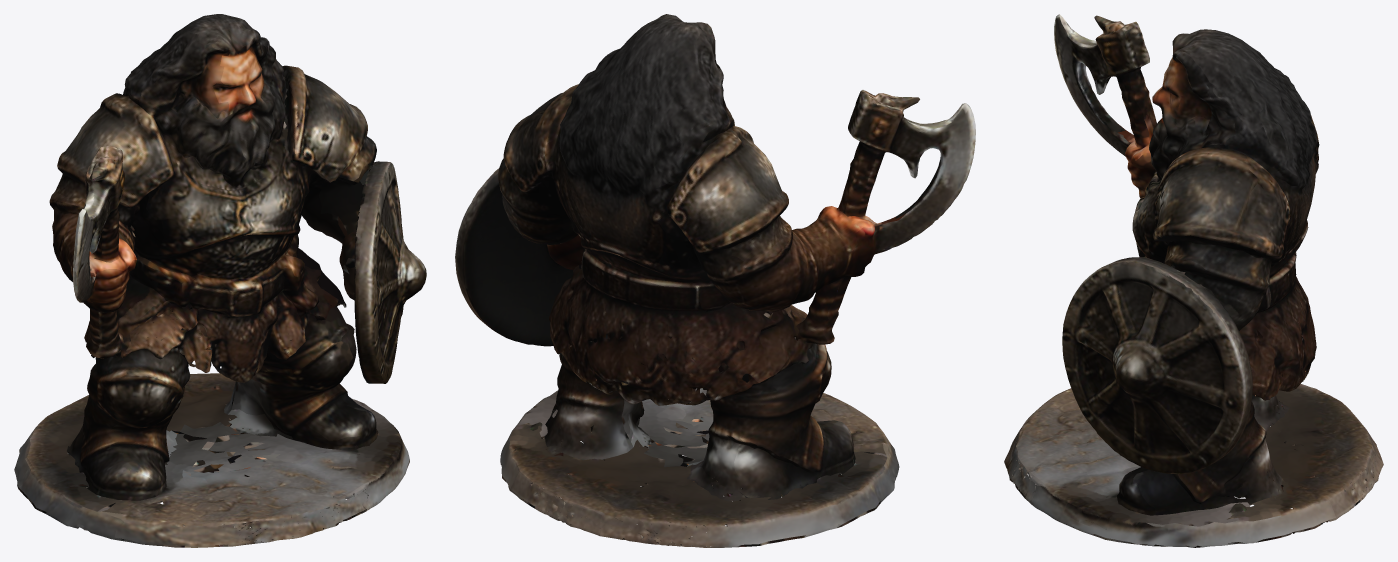
File: warrior.glb
3 views of the same model, side by side, from view 1: azimuth 30°, elevation 25°; view 2: azimuth 150°, elevation 25°; view 3: azimuth 270°, elevation 25° (orthographic).
Parts seen in each view (by area): view 1: tmpxy18xb6n.ply; view 2: tmpxy18xb6n.ply; view 3: tmpxy18xb6n.ply.
Boxes of the visible parts, left/top/right/bottom form: tmpxy18xb6n.ply: left=14, top=14, right=426, bottom=547; tmpxy18xb6n.ply: left=455, top=14, right=975, bottom=547; tmpxy18xb6n.ply: left=1004, top=14, right=1383, bottom=547.
Bounding box in the file's own units: 1.96 × 1.96 × 1.54.
1 material, 1 textured.
